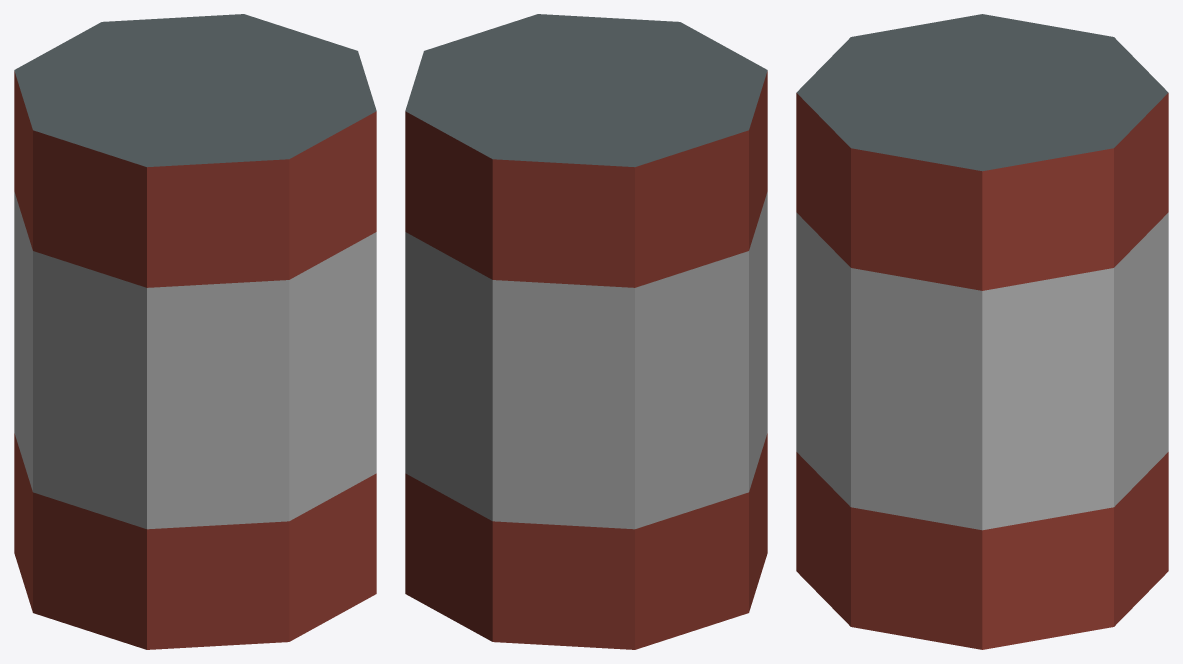
The model's file is barrel_03.fbx.
The picture shows the model from 3 angles, left to right: view 1: azimuth 30°, elevation 25°; view 2: azimuth 150°, elevation 25°; view 3: azimuth 270°, elevation 25°; orthographic projection.
Visible parts, largest first — view 1: barrel_01; view 2: barrel_01; view 3: barrel_01.
Boxes of the visible parts, bbox=[...] form: barrel_01: bbox=[14, 14, 376, 649]; barrel_01: bbox=[405, 14, 767, 649]; barrel_01: bbox=[796, 14, 1168, 649].
Bounding box in the file's own units: 1.42 × 2.02 × 1.42.
1 material, 1 textured.
